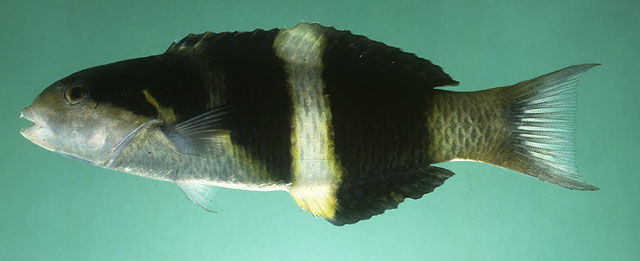fish: (19, 19, 604, 227)
